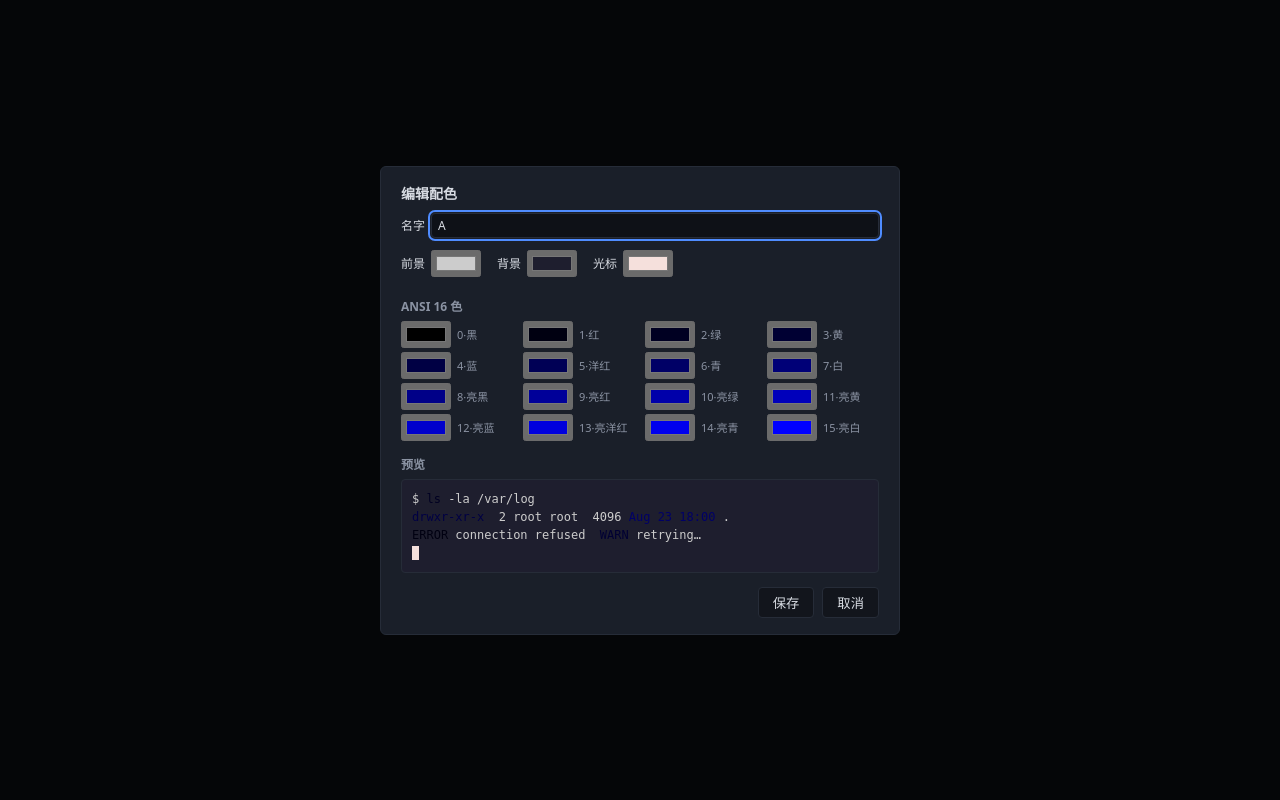
配色编辑器：编辑既有的 › 重名判错，但改回自己的名字不算重名
Replace the text in the field with test id "scheme-name" with "B" at (655, 225), box [431, 212, 879, 238]
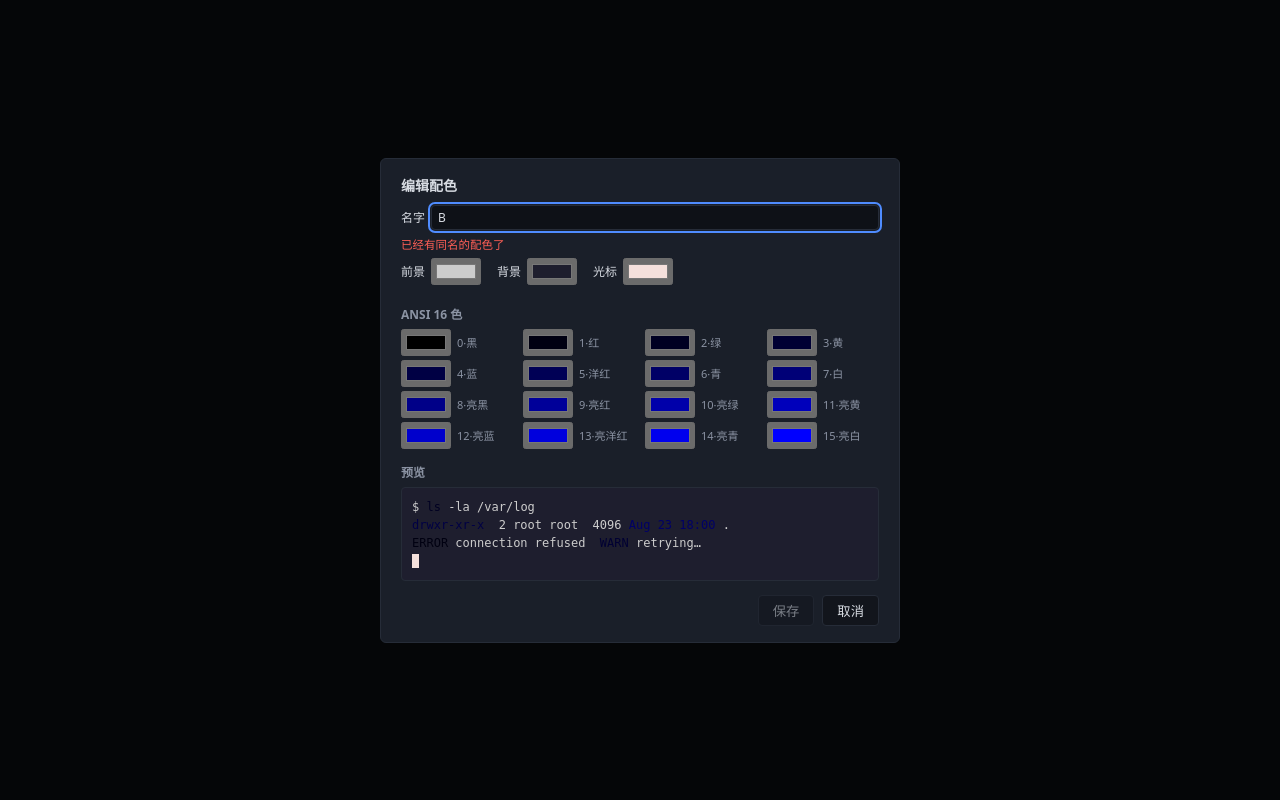
Result: the text with test id "scheme-name-error" shows "同名" at [401, 236, 504, 252]
Result: the button with test id "scheme-save" is disabled at [758, 594, 814, 626]
